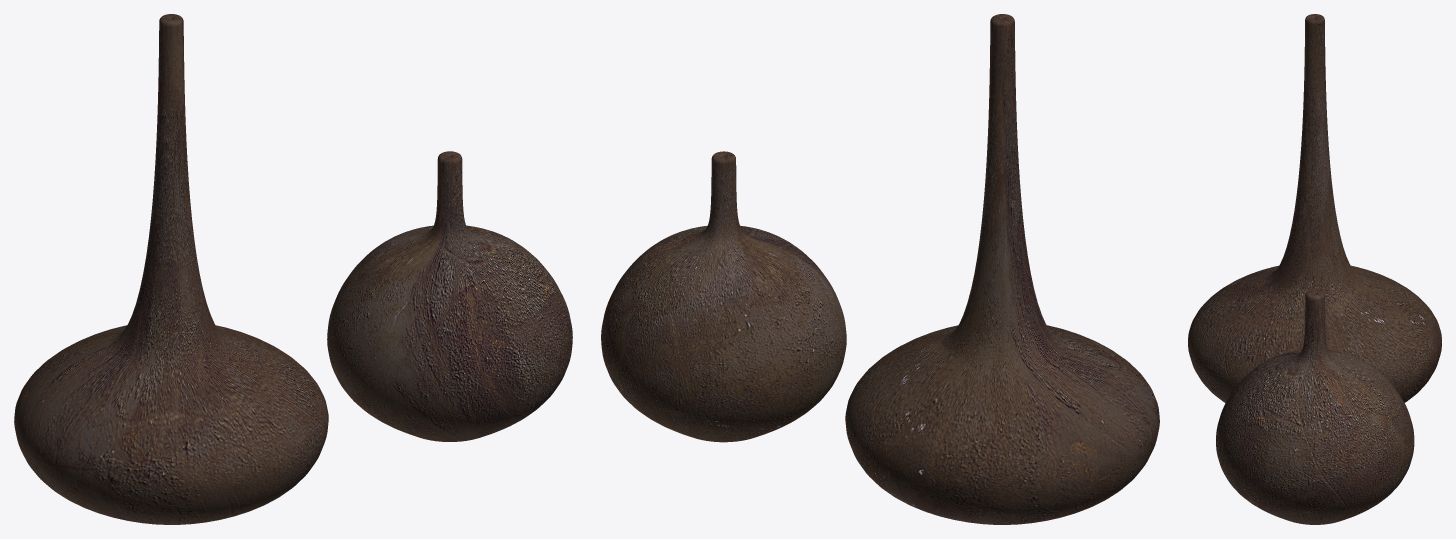
File: 黑花瓶.obj
3 views of the same model, side by side, from view 1: azimuth 30°, elevation 25°; view 2: azimuth 150°, elevation 25°; view 3: azimuth 270°, elevation 25° (orthographic). The views are drawn at different scales.
Parts seen in each view (by area): view 1: Obj3d66_450670_1_584, Obj3d66_450670_2_707; view 2: Obj3d66_450670_1_584, Obj3d66_450670_2_707; view 3: Obj3d66_450670_1_584, Obj3d66_450670_2_707.
Boxes of the visible parts, left/top/right/bottom form: Obj3d66_450670_1_584: left=14, top=14, right=328, bottom=524; Obj3d66_450670_2_707: left=327, top=151, right=572, bottom=441; Obj3d66_450670_1_584: left=845, top=14, right=1159, bottom=524; Obj3d66_450670_2_707: left=601, top=151, right=846, bottom=442; Obj3d66_450670_1_584: left=1188, top=14, right=1441, bottom=402; Obj3d66_450670_2_707: left=1216, top=290, right=1414, bottom=524.
Size of the model in its own units: 22.32 by 19.27 by 11.65.
